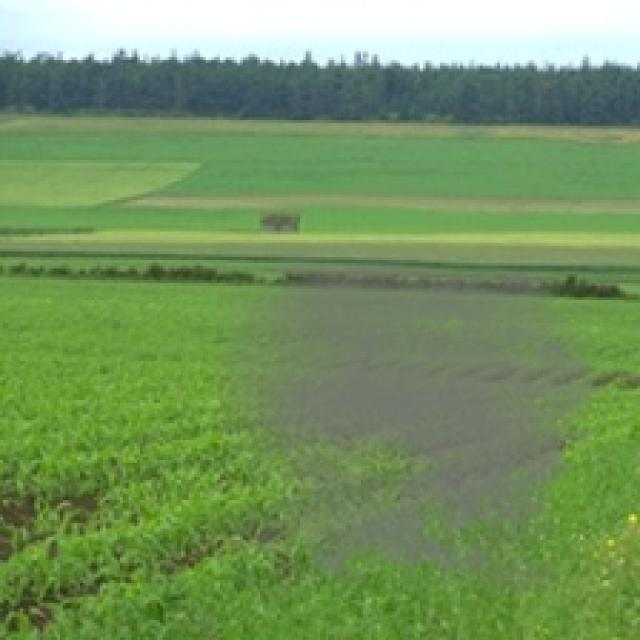Smoke: (217, 248, 623, 594)
